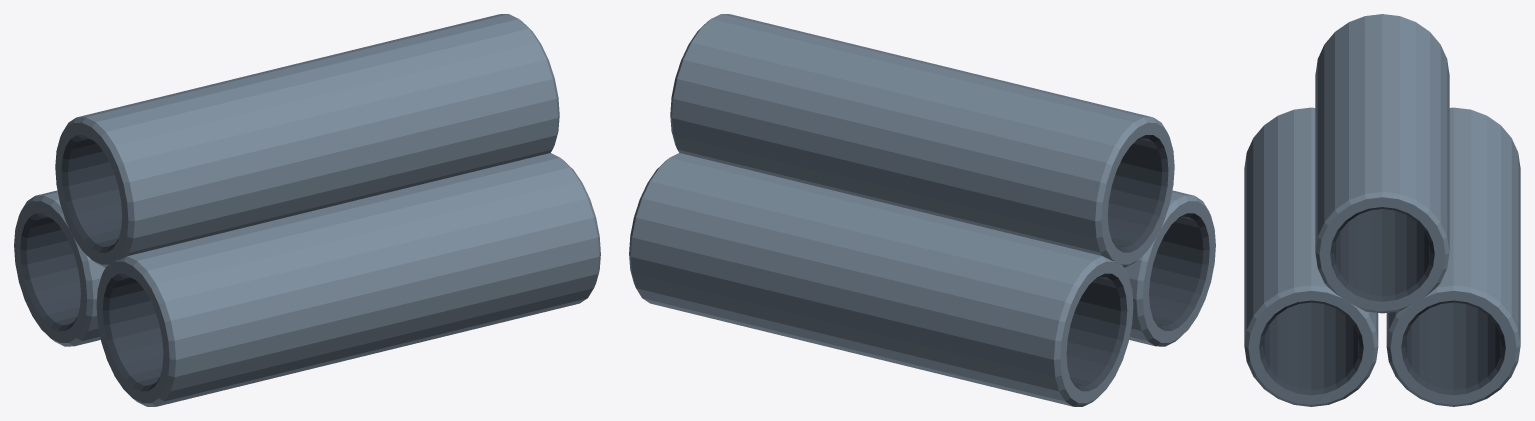
Rendered from clark q1 steel pipes.fbx.
3 views of the same model, side by side, from view 1: azimuth 30°, elevation 25°; view 2: azimuth 150°, elevation 25°; view 3: azimuth 270°, elevation 25° (orthographic). The views are drawn at different scales.
Visible parts, largest first — view 1: Pipe_Bottom_L_Pipe_Bottom_L_Mesh; view 2: Pipe_Bottom_L_Pipe_Bottom_L_Mesh; view 3: Pipe_Bottom_L_Pipe_Bottom_L_Mesh.
Boxes of the visible parts, <box> form: Pipe_Bottom_L_Pipe_Bottom_L_Mesh: <box>14,14,600,406</box>; Pipe_Bottom_L_Pipe_Bottom_L_Mesh: <box>629,14,1215,406</box>; Pipe_Bottom_L_Pipe_Bottom_L_Mesh: <box>1244,14,1520,406</box>.
Size of the model in its own units: 320 by 177 by 206.
